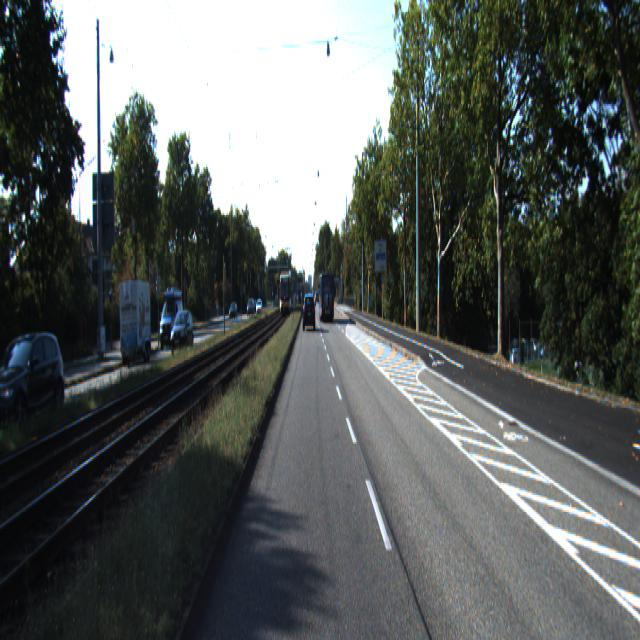Car: (0, 322, 72, 443), (118, 276, 153, 367), (158, 298, 186, 354), (169, 310, 196, 358), (318, 273, 335, 323), (303, 294, 315, 332)
